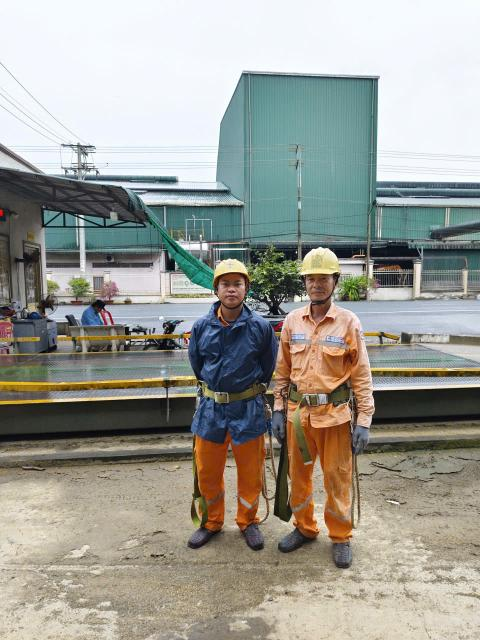gloves: (262, 412, 294, 438), (349, 423, 376, 452)
harness: (277, 378, 356, 411), (195, 380, 273, 405)
helmet: (301, 242, 347, 284), (208, 251, 256, 287)
shoes: (180, 507, 222, 557), (274, 514, 314, 560), (241, 511, 271, 549), (331, 538, 354, 572)
